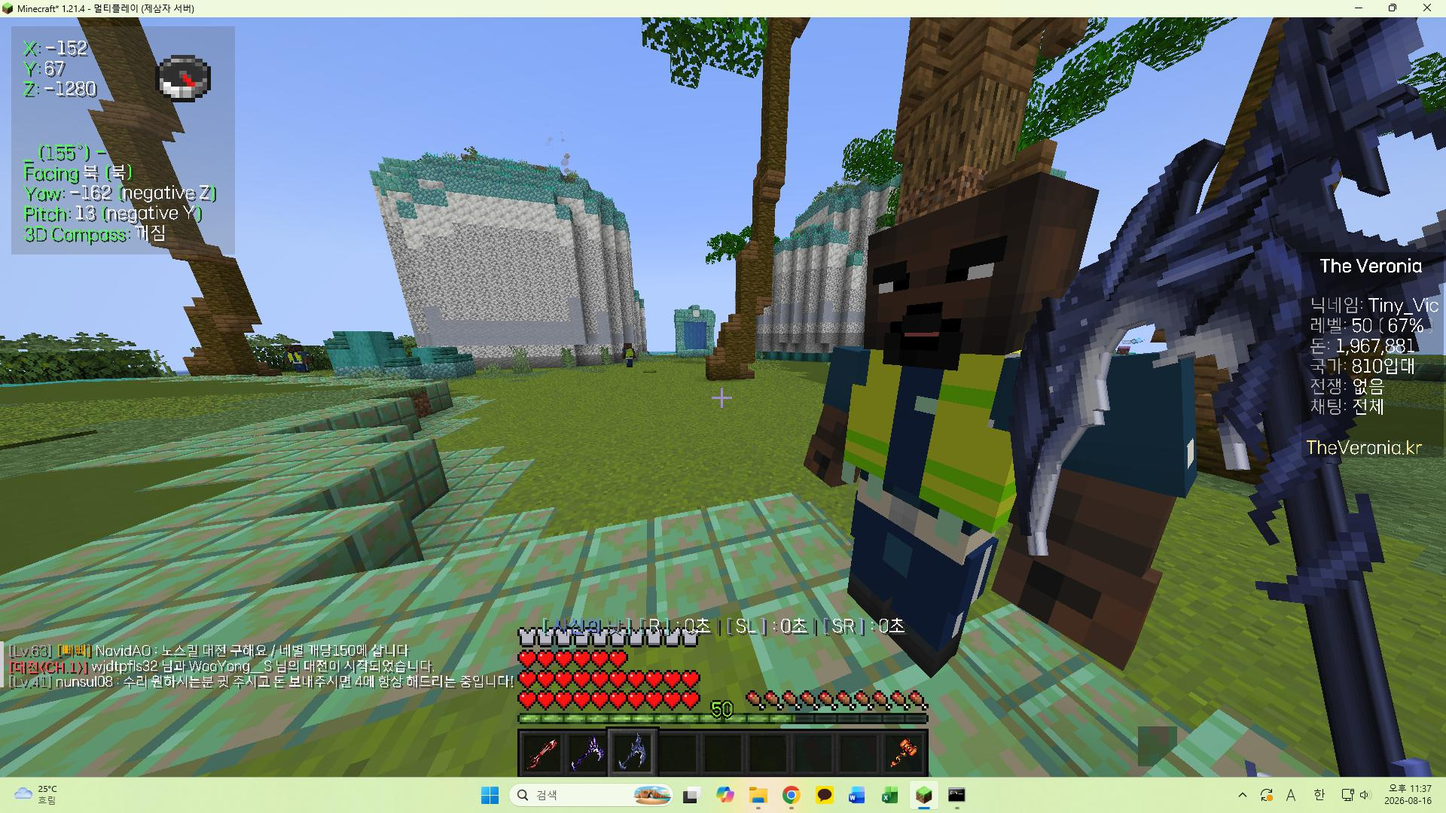Guardian: (805, 184, 1194, 675)
